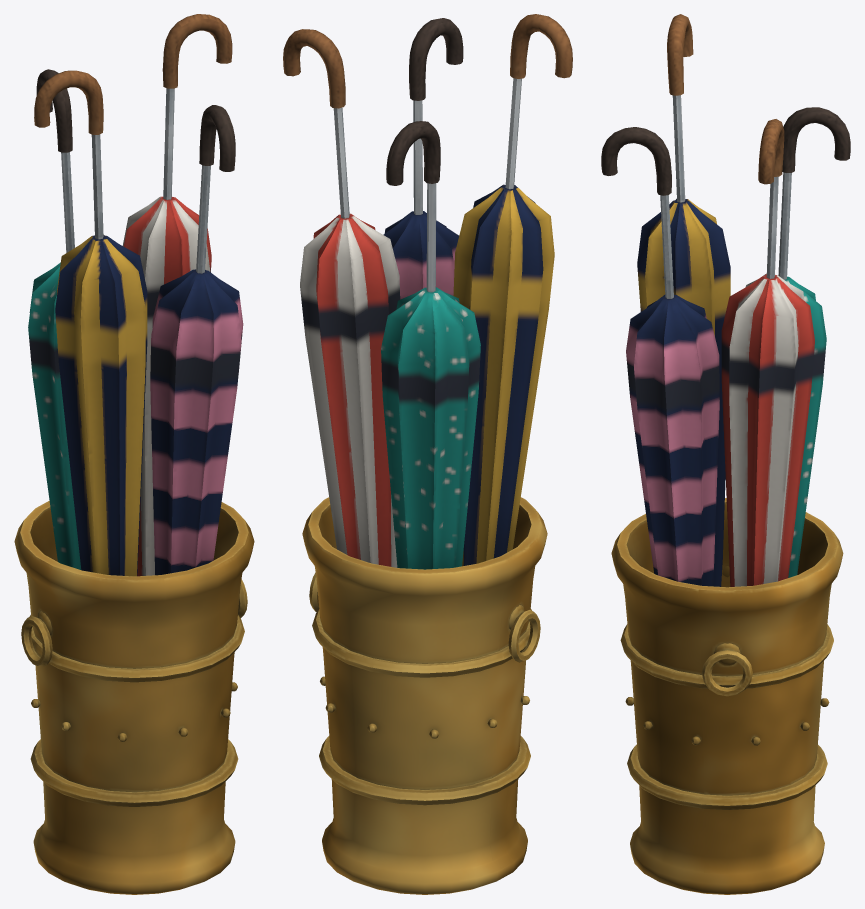
File: umbrella-stand.fbx
3 views of the same model, side by side, from view 1: azimuth 30°, elevation 25°; view 2: azimuth 150°, elevation 25°; view 3: azimuth 270°, elevation 25° (orthographic). The views are drawn at different scales.
Parts seen in each view (by area): view 1: Body; view 2: Body; view 3: Body.
Part boxes in pixels (x1,y1,x2,y2): Body: (14, 14, 254, 894); Body: (283, 14, 572, 894); Body: (601, 14, 850, 894).
Bounding box in the file's own units: 0.3334 × 1.1 × 0.3119.
